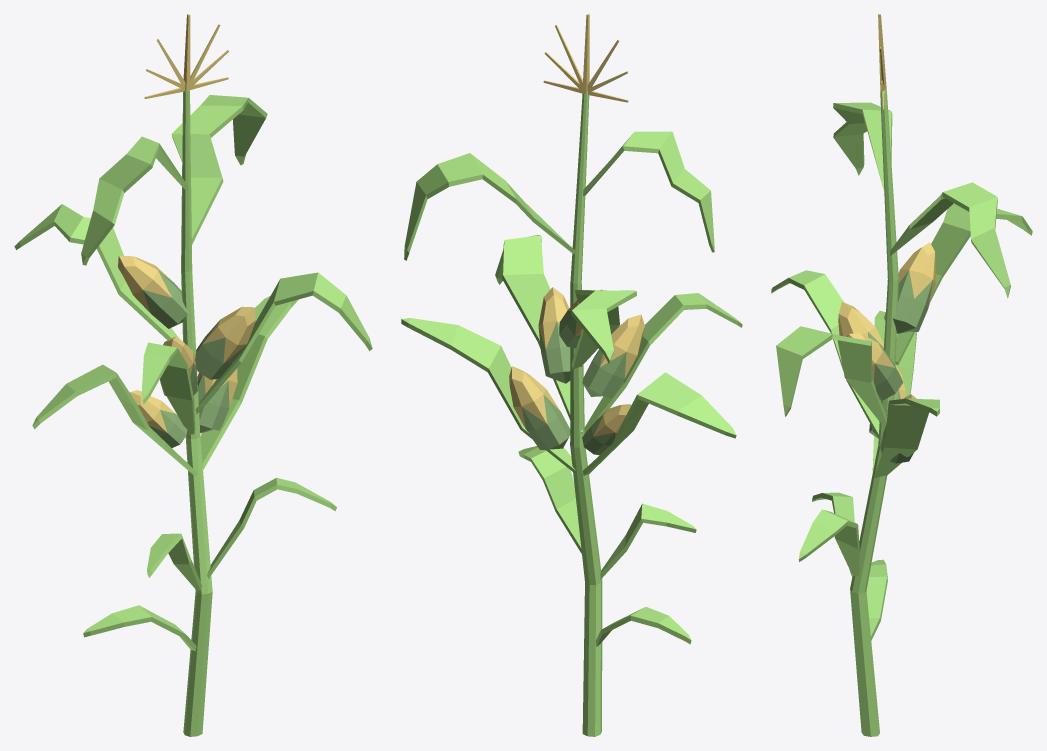
Rendered from corn_4.glb.
3 views of the same model, side by side, from view 1: azimuth 30°, elevation 25°; view 2: azimuth 150°, elevation 25°; view 3: azimuth 270°, elevation 25° (orthographic).
Visible parts, largest first — view 1: Corn_4; view 2: Corn_4; view 3: Corn_4.
Boxes of the visible parts, x1,y1,x2,y2 form: Corn_4: (14,14,372,736); Corn_4: (401,14,742,736); Corn_4: (771,14,1032,736).
Bounding box in the file's own units: 0.8873 × 1.97 × 0.6489.
